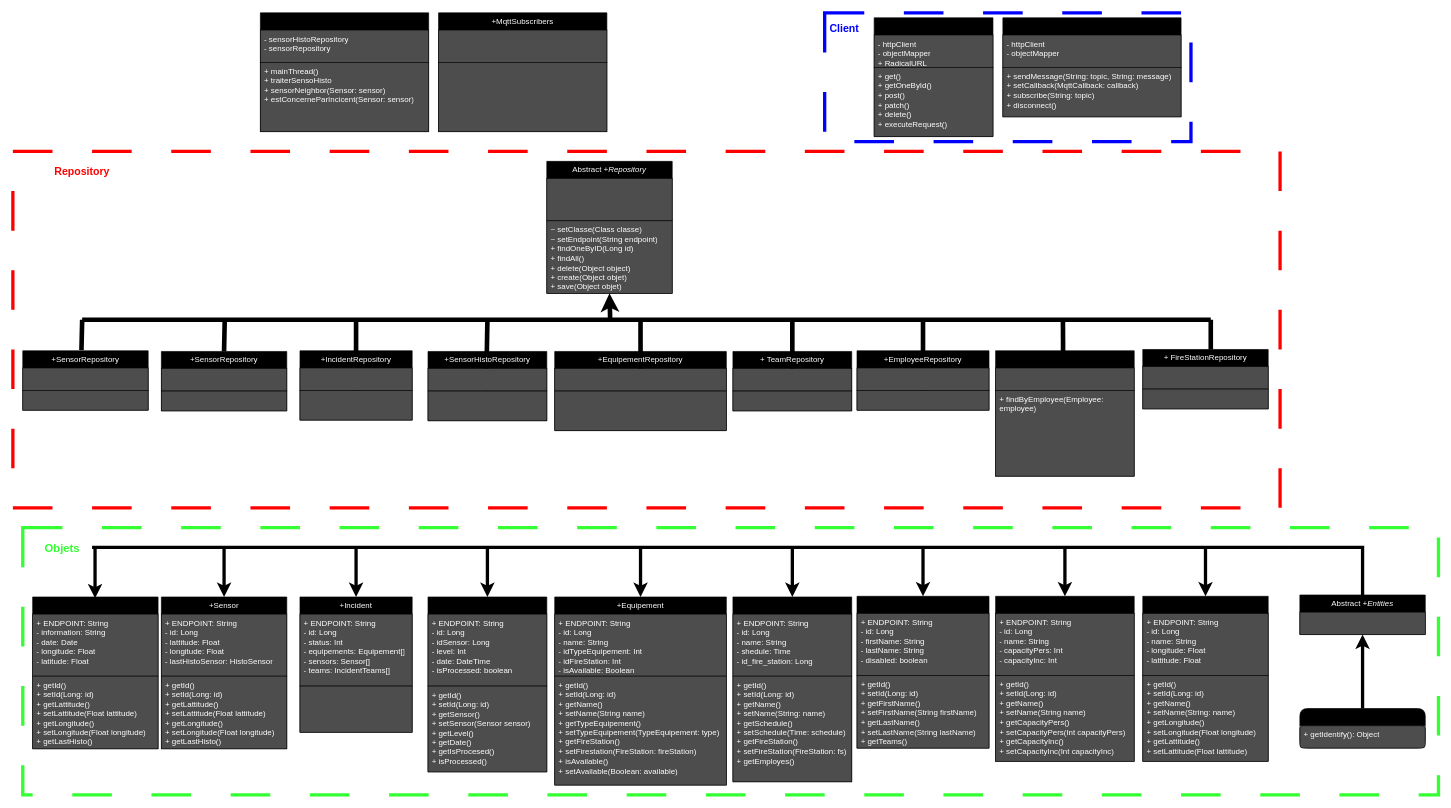
The diagram is 1451 pixels wide and 808 high, and some of its shapes have lost their labels. The shapes that lost their labels are listed below. From the top down, each one's box as (x1, y1, x2, y2) in pixels, then its label:
(438, 29, 607, 62): -mqttClient
(260, 12, 429, 132): +SensorsProcessing
(874, 17, 993, 137): +ApiClient
(1002, 17, 1181, 117): +MqttClient
(438, 62, 607, 132): +main()
(546, 178, 672, 221): - ENDPOINT - classe ~objectMapper
(299, 390, 412, 420): + findByStatus(bool status)
(427, 390, 547, 421): + findByIncident(Incident inc) + findNonProcessed()
(554, 390, 726, 431): + findByFireStation(FireStation fireStation) + findByIncident(Incident incident)
(856, 390, 989, 410): + findByTeam(Team team)
(995, 350, 1134, 476): +TypeEquipementRepository
(1299, 611, 1425, 635): + ENDPOINT: String
(32, 596, 158, 749): +EventIncidentEquipment
(427, 596, 547, 772): +SensorHisto
(732, 596, 852, 782): + Team
(856, 596, 989, 748): +Employee
(995, 596, 1134, 761): +TypeEquipement
(1142, 596, 1268, 761): + FireStation
(299, 685, 412, 732): + getId() + setId(Long id) + getStatus() + setStatus(Int status)
(1299, 708, 1425, 748): +ObjectIdentify
